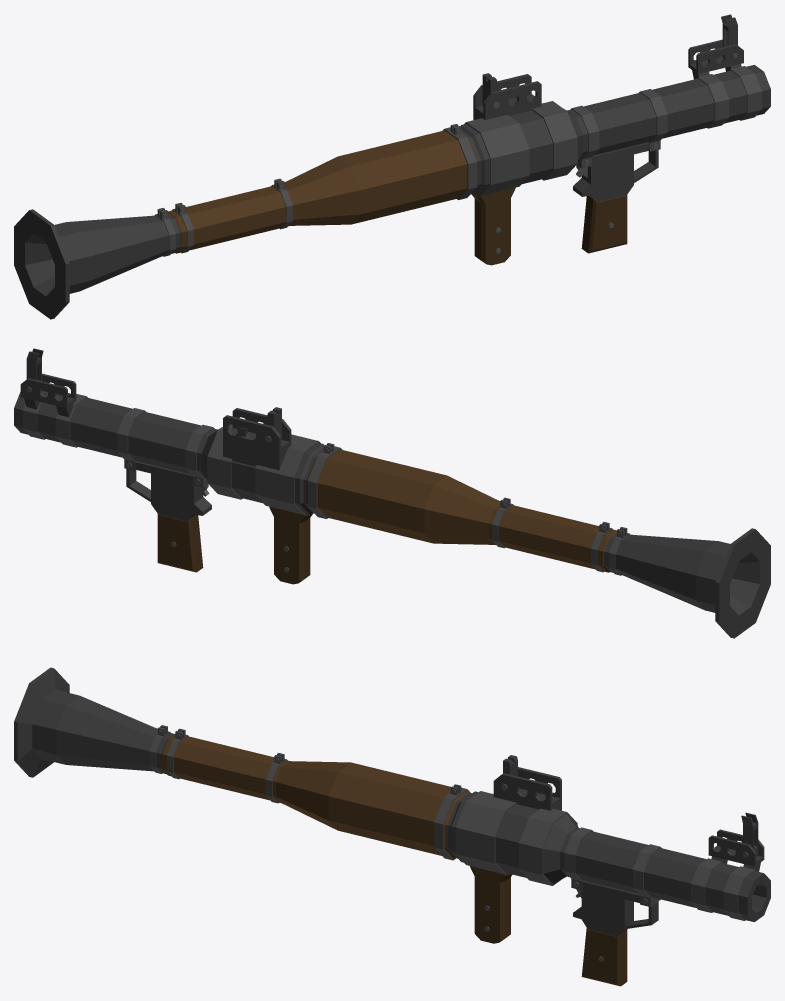
The model's file is HeavyWeapon2_05.fbx.
3 views of the same model, one above another, from view 1: azimuth 30°, elevation 25°; view 2: azimuth 150°, elevation 25°; view 3: azimuth 330°, elevation 25° (orthographic).
Visible parts, largest first — view 1: HeavyWeapon2_05; view 2: HeavyWeapon2_05; view 3: HeavyWeapon2_05.
Boxes of the visible parts, <box> form: HeavyWeapon2_05: <box>14,14,770,319</box>; HeavyWeapon2_05: <box>14,348,770,638</box>; HeavyWeapon2_05: <box>14,667,770,986</box>.
Bounding box in the file's own units: 1.09 × 0.2731 × 0.1355.
